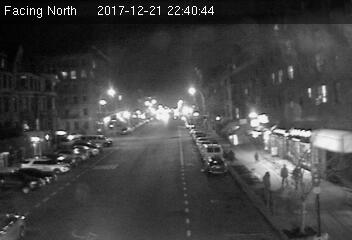car: (204, 156, 226, 174)
pedestrian: (278, 163, 290, 188)
truck: (201, 144, 223, 158)
